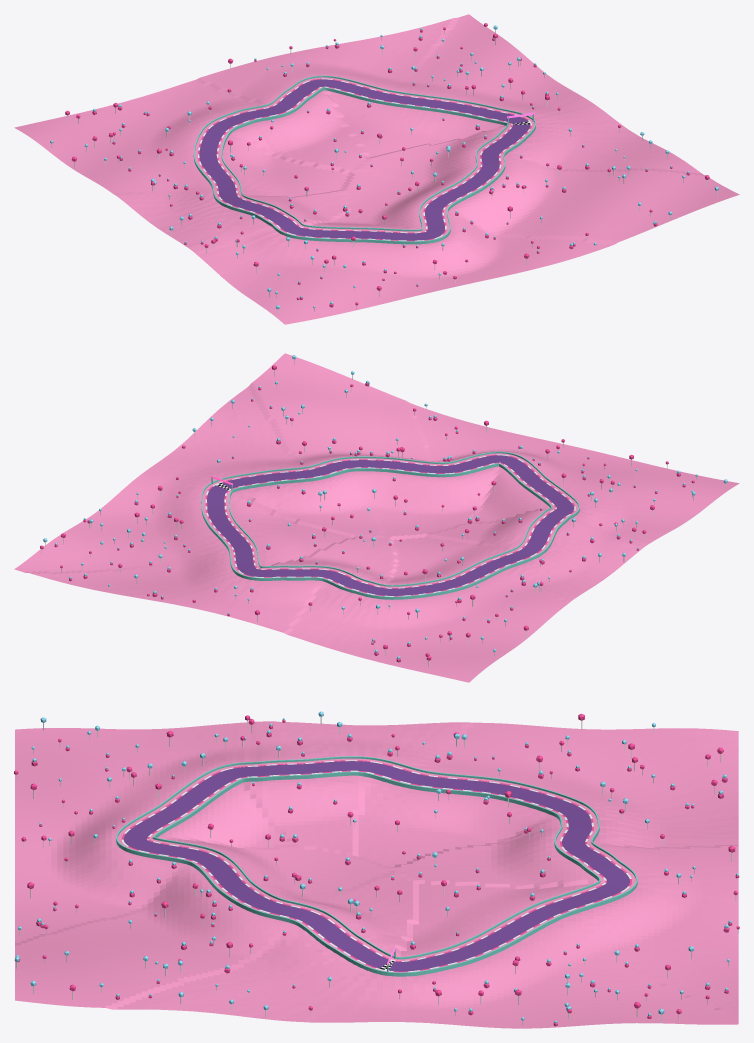
Rendered from level_4.glb.
3 views of the same model, one above another, from view 1: azimuth 30°, elevation 25°; view 2: azimuth 150°, elevation 25°; view 3: azimuth 270°, elevation 25° (orthographic). The views are drawn at different scales.
Visible parts, largest first — view 1: Terrain, Road, Wall_L, Props_leaf, Wall_R, Props_leaf2, Shoulder_L, Shoulder_R, Curb_L, Curb_R, Props_trunk; view 2: Terrain, Road, Wall_L, Props_leaf, Wall_R, Props_leaf2, Shoulder_L, Curb_L, Shoulder_R, Curb_R, Props_trunk; view 3: Terrain, Road, Wall_L, Props_leaf, Wall_R, Props_leaf2, Shoulder_L, Curb_L, Shoulder_R, Curb_R, Props_trunk.
Boxes of the visible parts, x1=… form: Terrain: x1=14, y1=14, x2=739, y2=324; Road: x1=199, y1=79, x2=530, y2=240; Wall_L: x1=193, y1=75, x2=535, y2=244; Props_leaf: x1=65, y1=23, x2=709, y2=307; Wall_R: x1=221, y1=87, x2=508, y2=231; Props_leaf2: x1=50, y1=25, x2=718, y2=309; Shoulder_L: x1=195, y1=77, x2=534, y2=239; Shoulder_R: x1=218, y1=87, x2=511, y2=232; Curb_L: x1=198, y1=78, x2=531, y2=241; Curb_R: x1=216, y1=86, x2=512, y2=233; Props_trunk: x1=51, y1=27, x2=717, y2=314; Terrain: x1=14, y1=353, x2=739, y2=682; Road: x1=207, y1=455, x2=574, y2=595; Wall_L: x1=201, y1=451, x2=579, y2=599; Props_leaf: x1=40, y1=365, x2=694, y2=662; Wall_R: x1=229, y1=463, x2=552, y2=586; Props_leaf2: x1=43, y1=355, x2=727, y2=659; Shoulder_L: x1=202, y1=453, x2=578, y2=595; Curb_L: x1=205, y1=454, x2=575, y2=596; Shoulder_R: x1=226, y1=463, x2=555, y2=587; Curb_R: x1=224, y1=462, x2=556, y2=588; Props_trunk: x1=41, y1=359, x2=725, y2=666; Terrain: x1=15, y1=721, x2=738, y2=1028; Road: x1=123, y1=761, x2=629, y2=971; Wall_L: x1=116, y1=756, x2=637, y2=976; Props_leaf: x1=14, y1=713, x2=739, y2=1026; Wall_R: x1=152, y1=771, x2=600, y2=959; Props_leaf2: x1=14, y1=711, x2=738, y2=1023; Shoulder_L: x1=117, y1=758, x2=635, y2=971; Curb_L: x1=121, y1=760, x2=631, y2=972; Shoulder_R: x1=149, y1=773, x2=604, y2=960; Curb_R: x1=147, y1=770, x2=606, y2=961; Props_trunk: x1=16, y1=717, x2=738, y2=1025.
Bounding box in the file's own units: 410 × 29.86 × 423.
